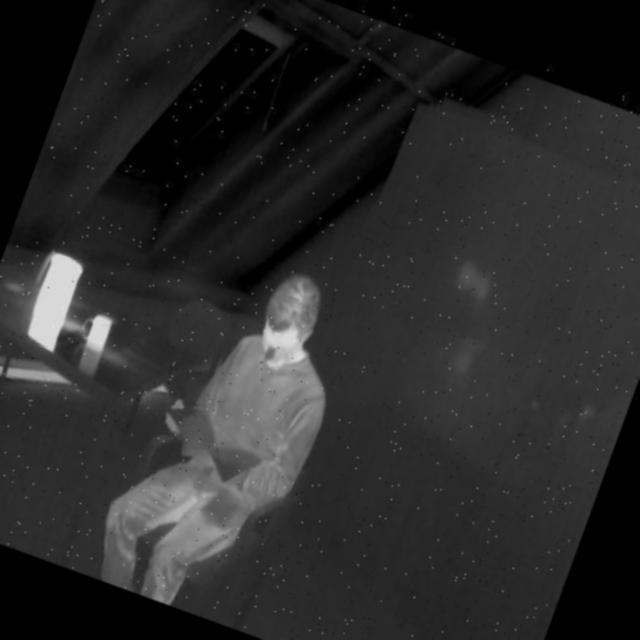person: (78, 236, 368, 634)
